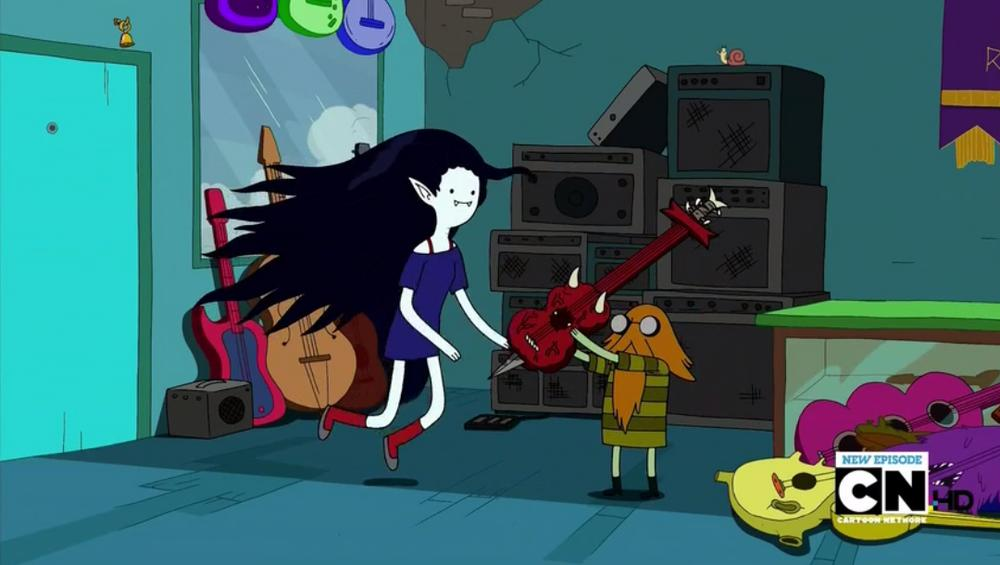snail: (714, 44, 750, 67)
